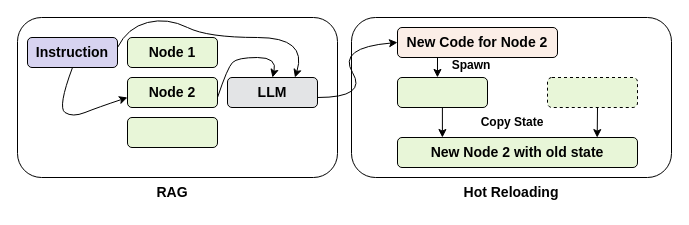
The diagram is 689 pixels wide and 225 high, and some of its shapes have lost their labels. Here are the shapes that lost their labels. From the top down, the box of each, then its label:
(396, 76, 488, 108): New Node 2
(546, 76, 638, 108): Old Node 2
(126, 116, 218, 148): Node 3
